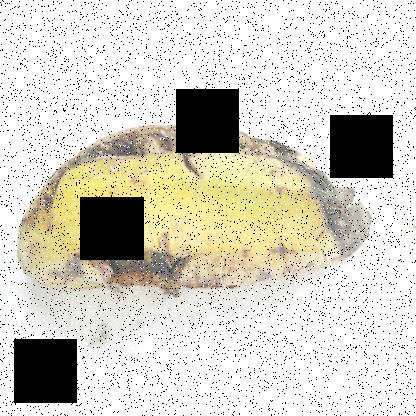rotten: (1, 114, 379, 337)
